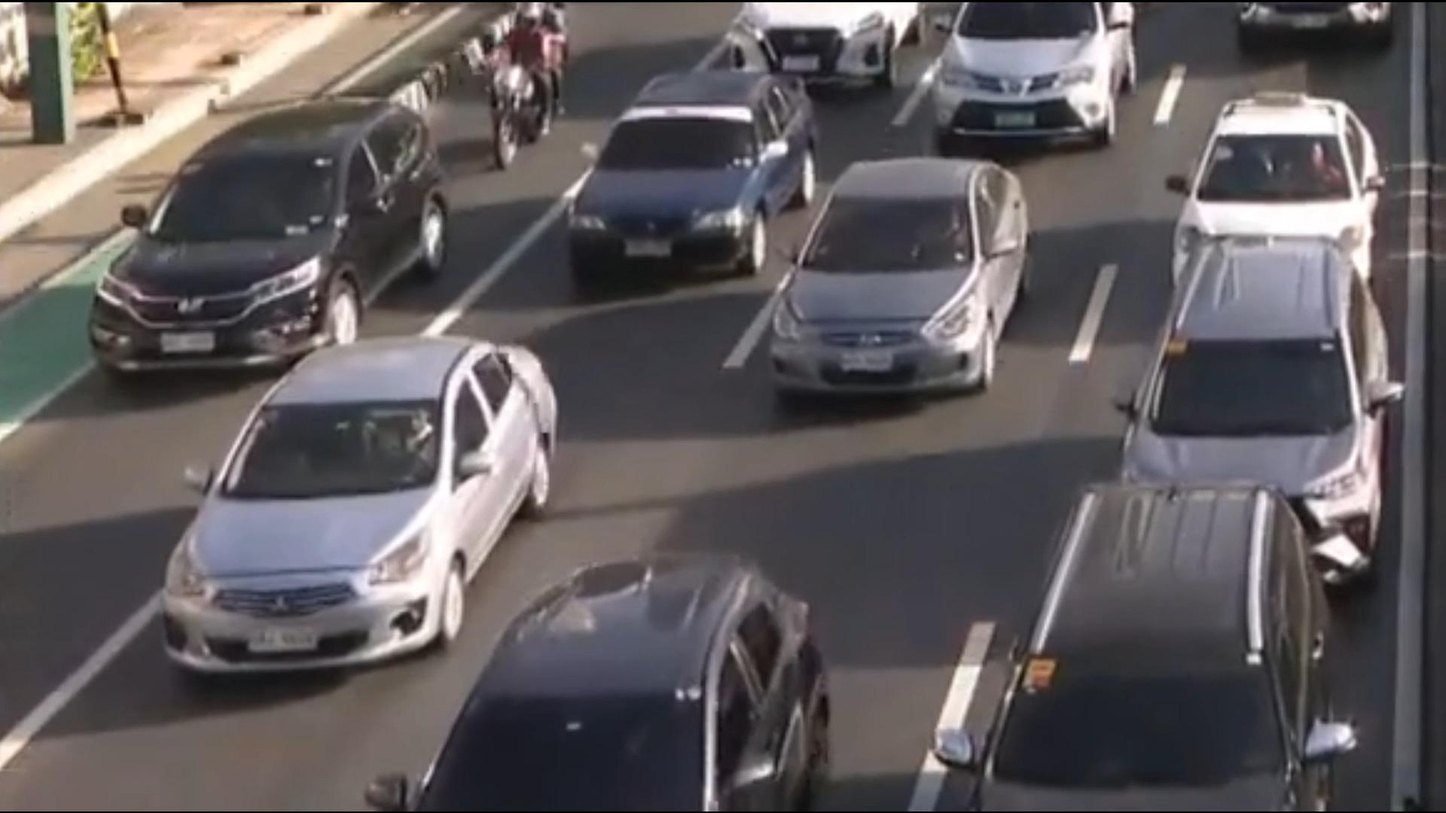Motorcycle: (478, 2, 562, 174)
SUV: (942, 486, 1335, 813), (367, 554, 828, 813), (89, 98, 448, 367), (1116, 239, 1387, 585), (728, 0, 919, 92)
Sedan: (166, 340, 559, 674), (775, 158, 1034, 395), (566, 70, 821, 276), (1167, 94, 1383, 304), (927, 0, 1136, 145)
